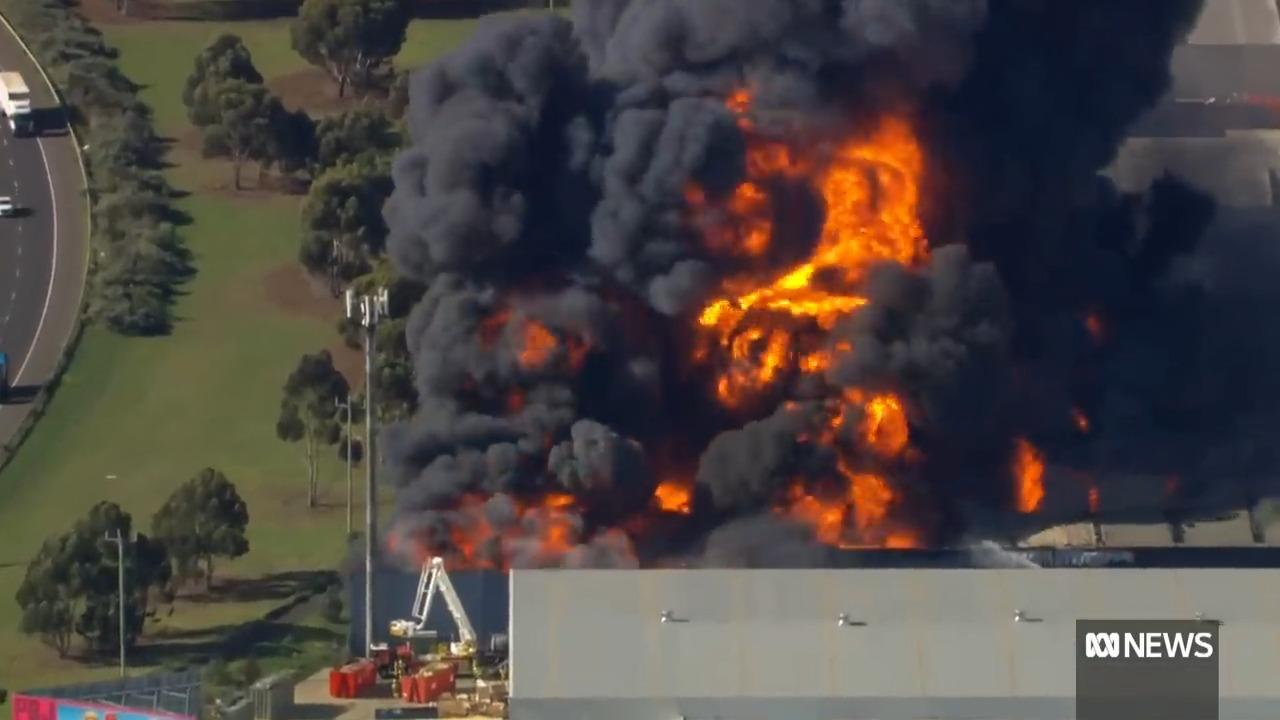fire: (680, 126, 923, 555), (526, 487, 591, 552), (1016, 431, 1060, 519), (416, 524, 501, 568), (644, 467, 704, 521), (520, 326, 581, 378), (716, 76, 771, 131), (1014, 445, 1046, 510)
